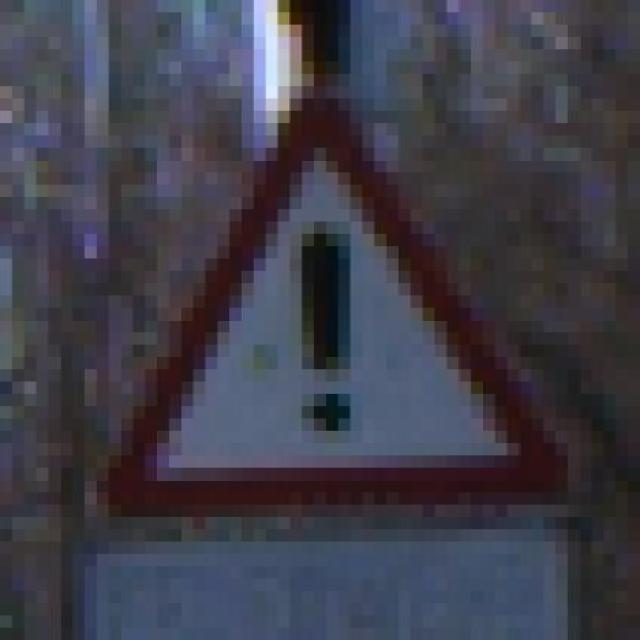Attention Please-: (97, 98, 580, 530)
